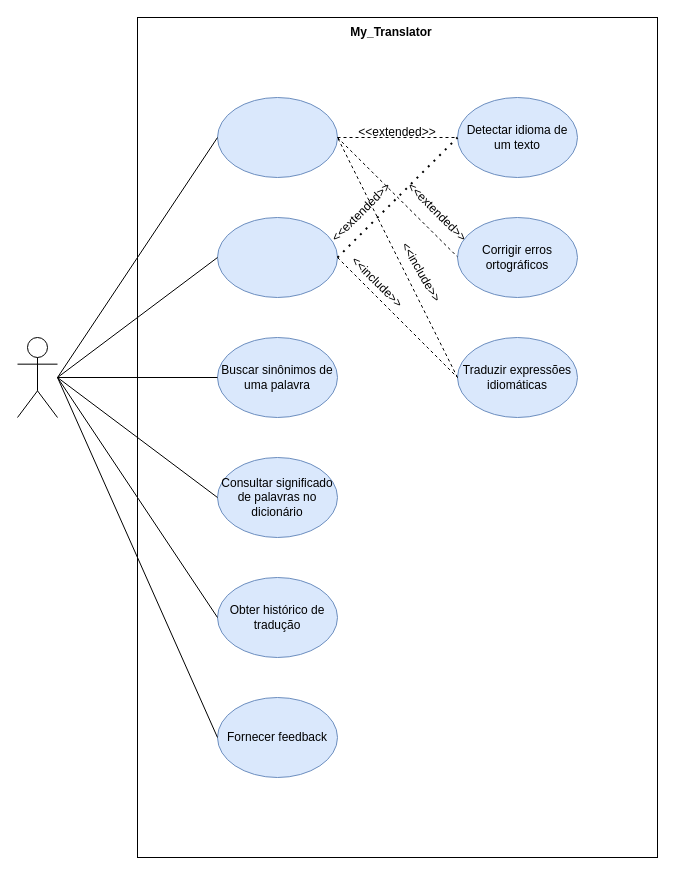
Image size: 675x875. Some labels were removed from this diagram. Each missing label, with the box of its shape:
Traduzir arquivo: (216, 216, 338, 298)
Traduzir textos e frases: (216, 96, 338, 178)
Usuário: (16, 336, 58, 418)
